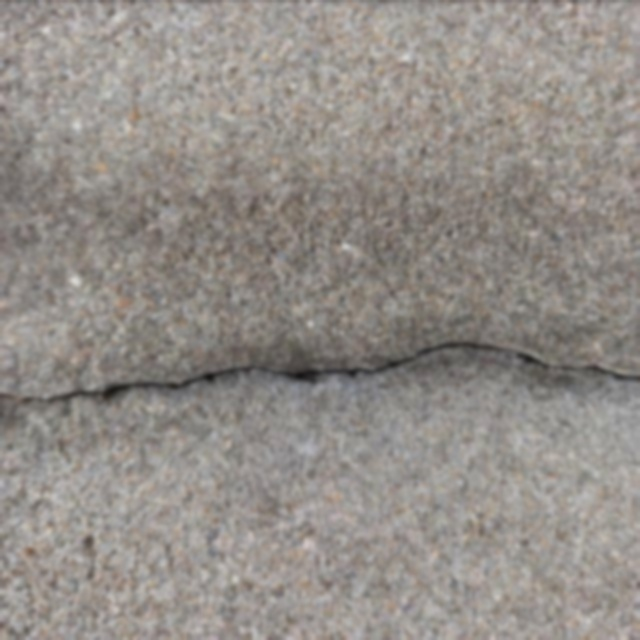SurfaceCrack: (0, 291, 639, 445)
